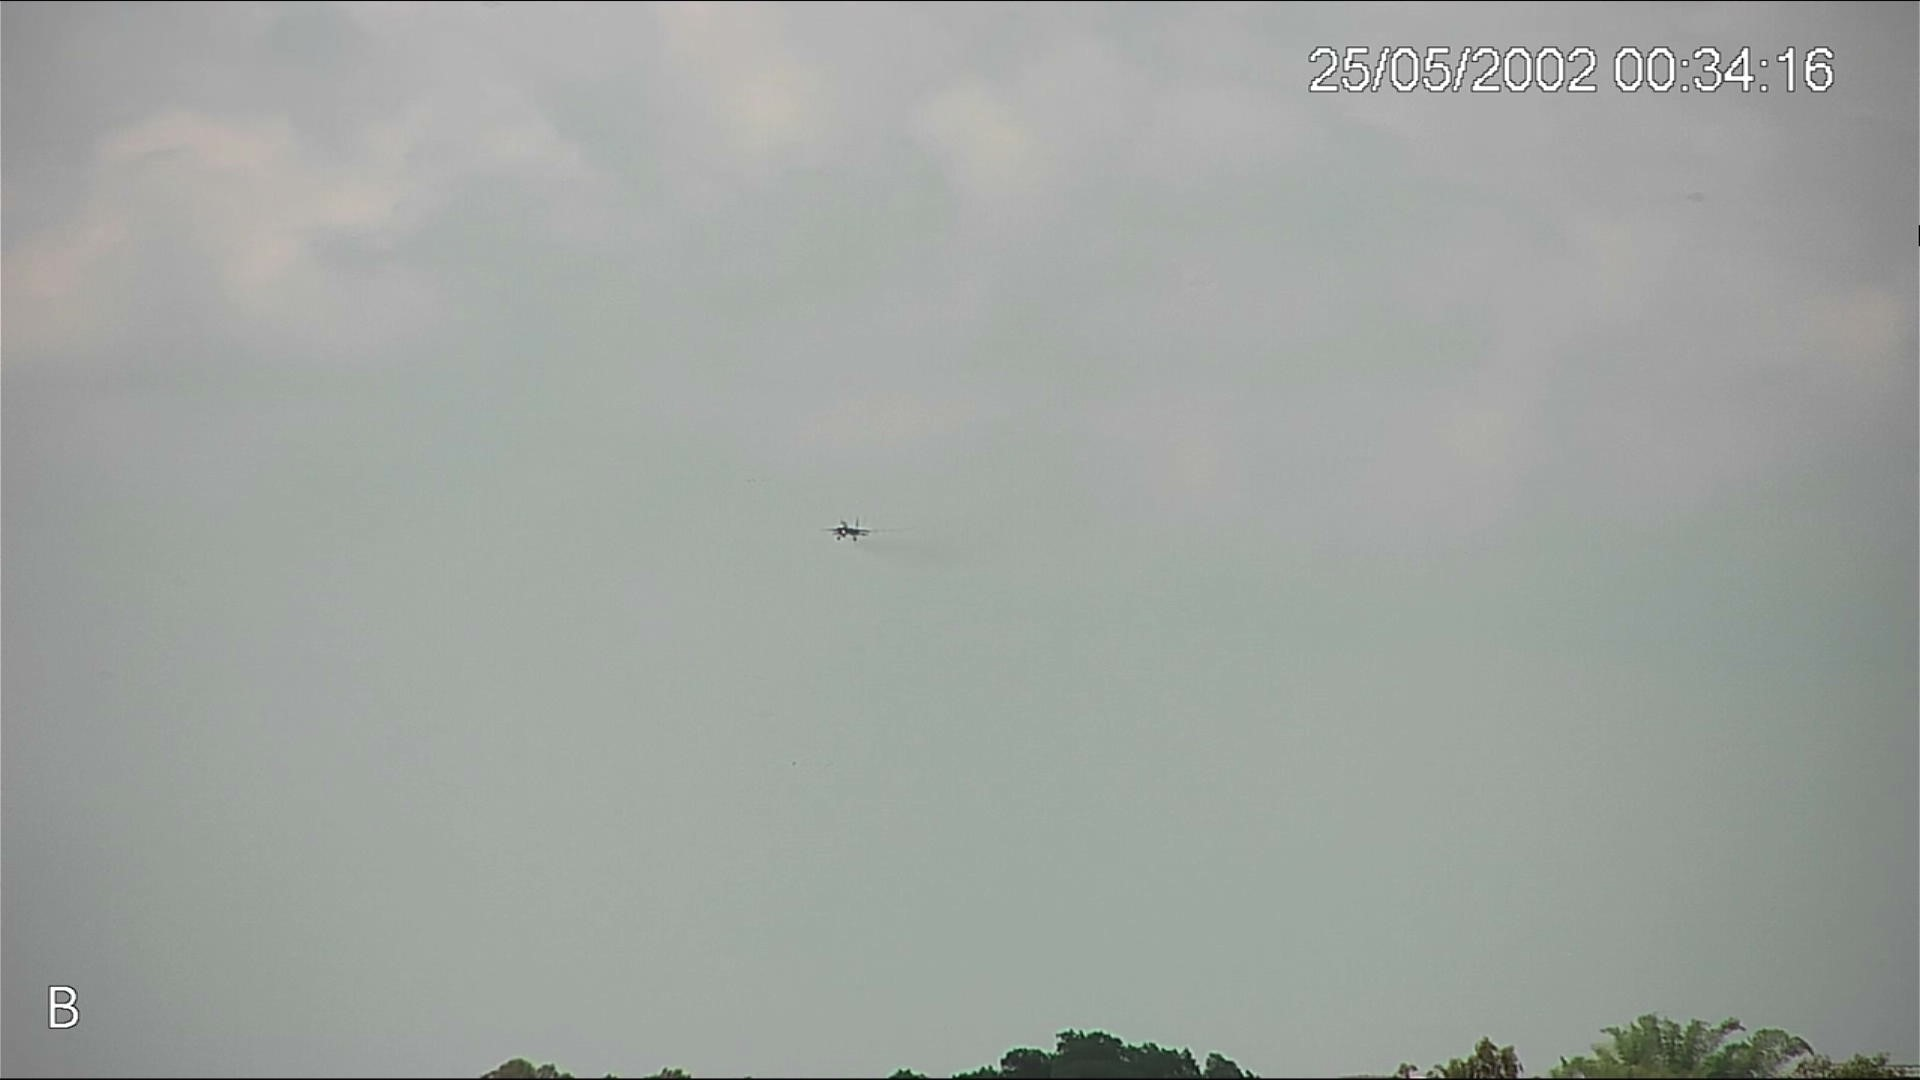SU_30: (823, 512, 876, 545)
